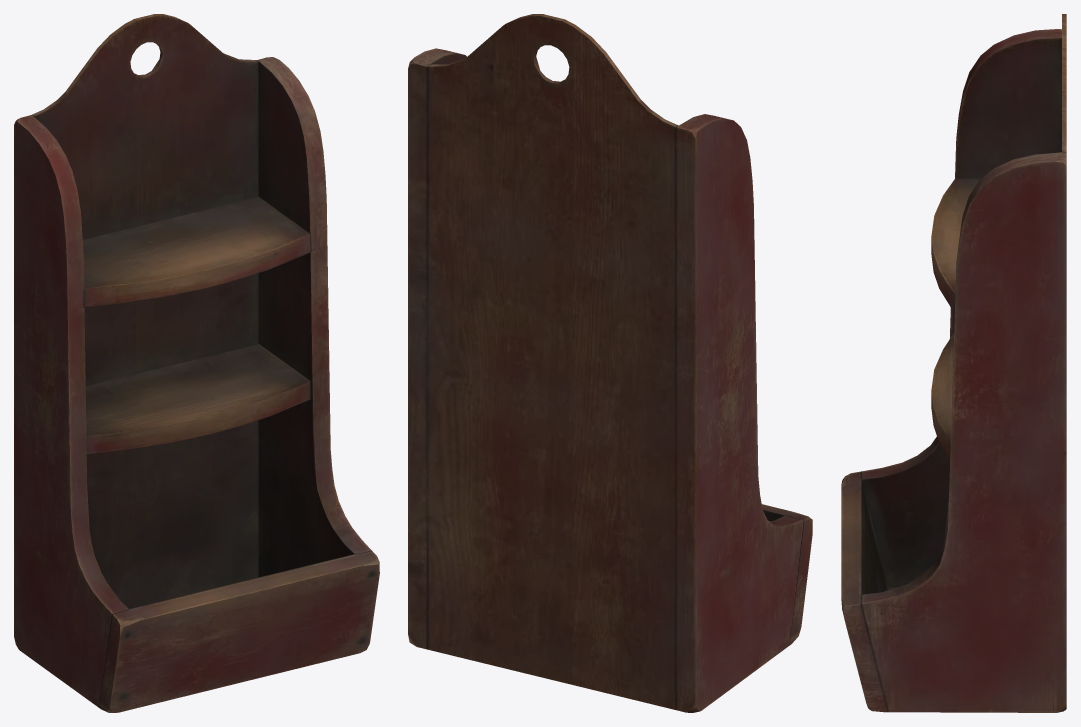
File: painted_wooden_shelves.glb
3 renders of one model, left to right at view 1: azimuth 30°, elevation 25°; view 2: azimuth 150°, elevation 25°; view 3: azimuth 270°, elevation 25°, orthographic. The views are drawn at different scales.
Parts seen in each view (by area): view 1: painted_wooden_shelves; view 2: painted_wooden_shelves; view 3: painted_wooden_shelves.
Boxes of the visible parts, x1,y1,x2,y2 form: painted_wooden_shelves: (14,14,379,712); painted_wooden_shelves: (408,14,812,712); painted_wooden_shelves: (841,14,1066,712).
Size of the model in its own units: 0.5111 by 1.12 by 0.3671.
Materials: 1 (1 with a texture image).
